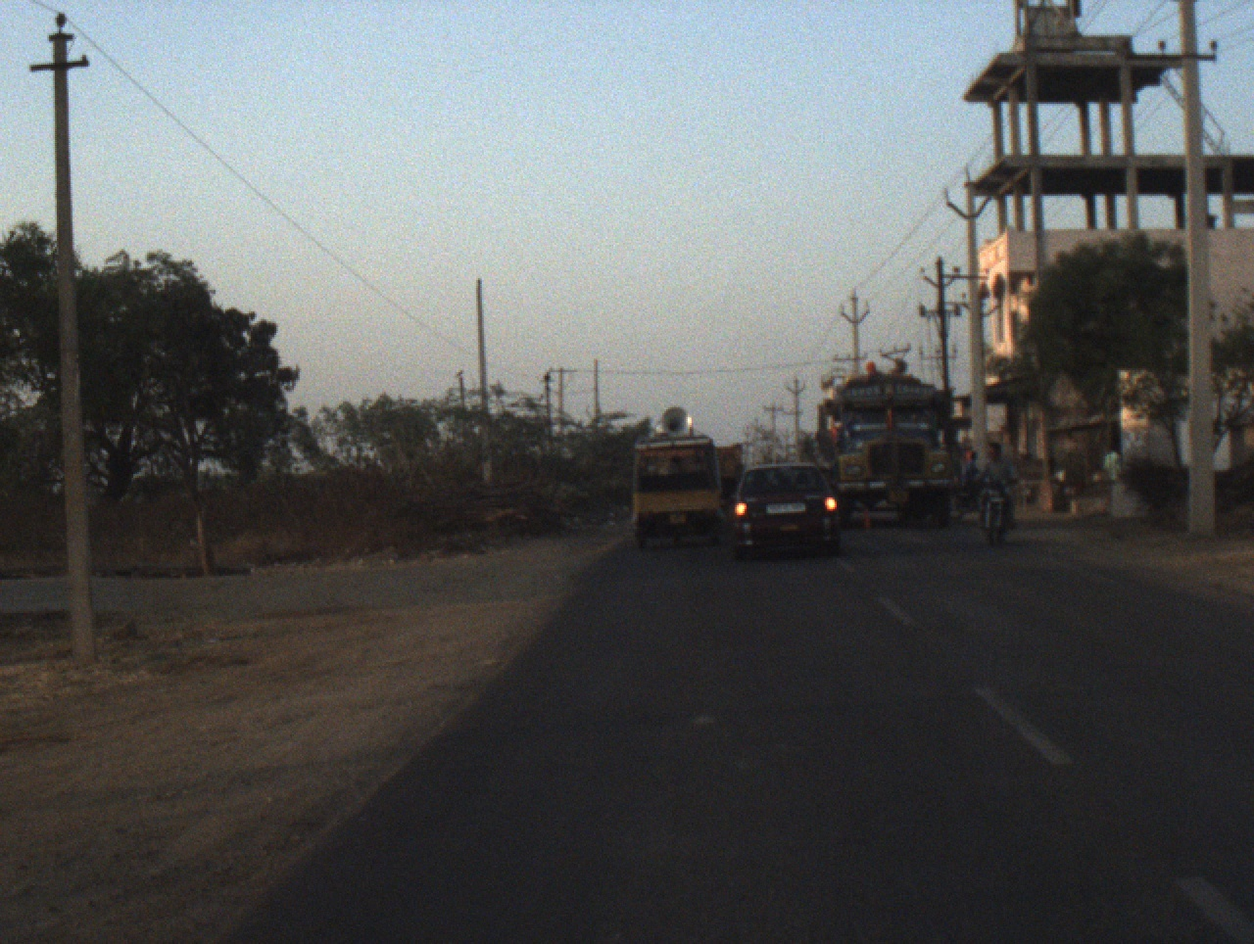autorickshaw: (618, 405, 736, 554)
car: (721, 462, 849, 568)
motorcycle: (973, 474, 1020, 545), (955, 471, 981, 522)
rider: (973, 438, 1016, 525), (961, 449, 985, 503)
truck: (806, 364, 958, 530)
vehicle fallback: (704, 439, 743, 504)
